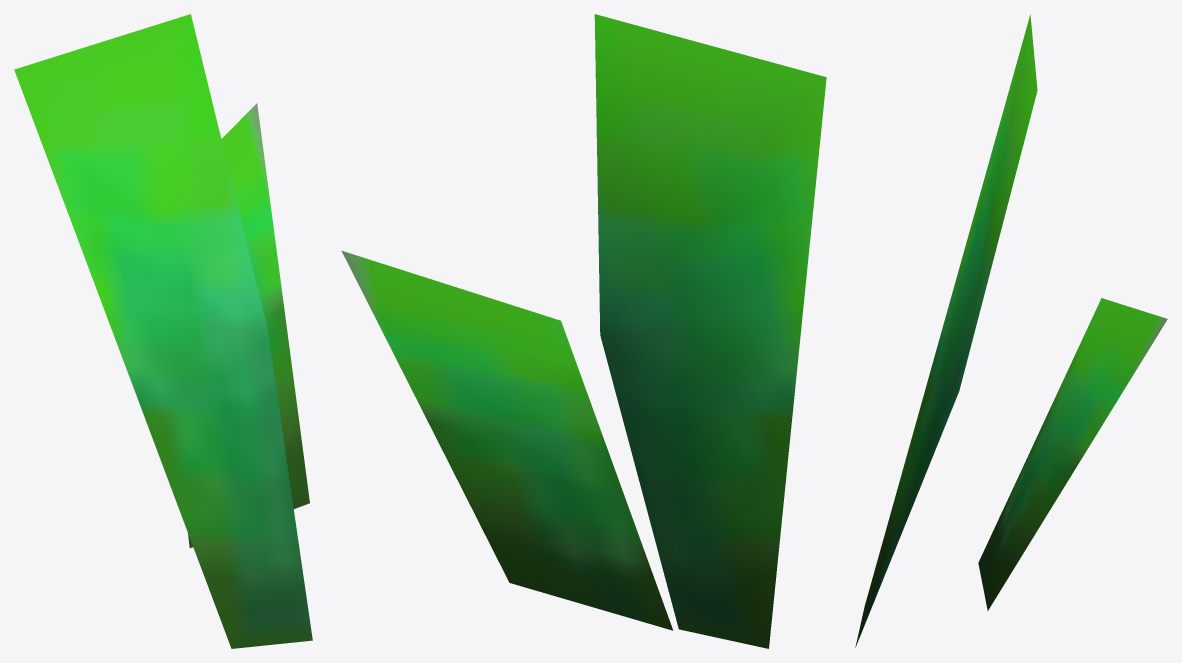
The model's file is fg_grassA.dae.
3 renders of one model, left to right at view 1: azimuth 30°, elevation 25°; view 2: azimuth 150°, elevation 25°; view 3: azimuth 270°, elevation 25°, orthographic. The views are drawn at different scales.
Visible parts, largest first — view 1: fg_grassA; view 2: fg_grassA; view 3: fg_grassA.
Part boxes in pixels (x1=…): fg_grassA: x1=14, y1=14, x2=312, y2=648; fg_grassA: x1=341, y1=14, x2=826, y2=648; fg_grassA: x1=855, y1=14, x2=1167, y2=647.
Bounding box in the file's own units: 11.97 × 20.54 × 10.68.
Materials: 1 (1 with a texture image).
